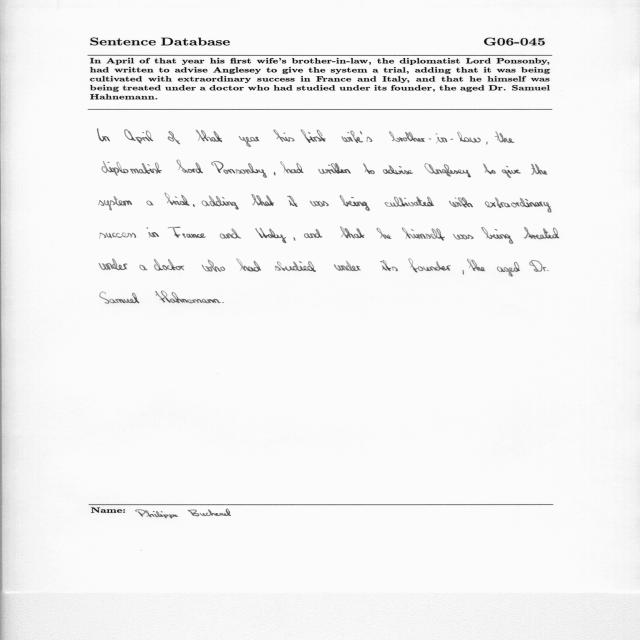word: (389, 131, 481, 143), (485, 198, 551, 213), (211, 161, 267, 178), (102, 161, 162, 176), (155, 291, 221, 303), (424, 163, 471, 178), (402, 228, 445, 241), (385, 196, 435, 207), (409, 259, 451, 272), (482, 227, 514, 244), (202, 196, 239, 210), (99, 196, 132, 211), (340, 195, 370, 211), (100, 292, 139, 304), (275, 261, 316, 272), (125, 129, 154, 144), (524, 227, 559, 239), (168, 227, 206, 238), (260, 228, 287, 243), (342, 130, 373, 143), (318, 163, 351, 174), (154, 259, 184, 271), (301, 129, 326, 143), (177, 160, 203, 173), (377, 228, 407, 239), (165, 193, 190, 206), (237, 259, 262, 272), (497, 262, 520, 276), (99, 259, 128, 270), (196, 130, 222, 142), (281, 161, 304, 173), (251, 194, 274, 206), (202, 260, 225, 272), (340, 227, 365, 238), (274, 129, 295, 142), (383, 166, 413, 175), (334, 261, 361, 271), (449, 197, 473, 208), (529, 260, 549, 272), (220, 228, 241, 239), (495, 131, 514, 143), (502, 166, 521, 178), (239, 136, 259, 147), (100, 233, 136, 239), (467, 259, 485, 271), (380, 260, 398, 271), (531, 164, 548, 175), (304, 229, 322, 238), (97, 129, 110, 141), (168, 131, 180, 144), (146, 227, 159, 238), (363, 164, 375, 175), (287, 195, 298, 207), (483, 164, 496, 174), (453, 234, 474, 240), (309, 201, 329, 207), (256, 228, 264, 238), (140, 265, 148, 271), (147, 201, 154, 206), (486, 141, 488, 145), (462, 270, 464, 274), (193, 204, 195, 207), (274, 172, 275, 175), (222, 302, 224, 303)
